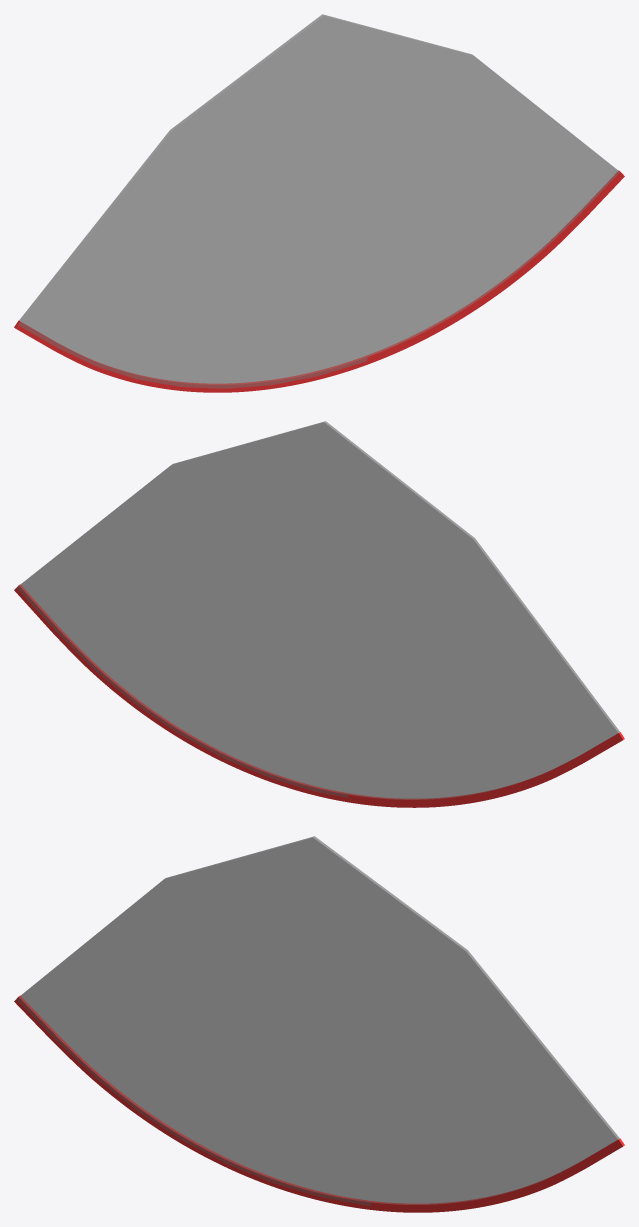
3 renders of one model, top to bottom at view 1: azimuth 30°, elevation 25°; view 2: azimuth 150°, elevation 25°; view 3: azimuth 330°, elevation 25°, orthographic.
Parts seen in each view (by area): view 1: Circle004, 图形004; view 2: Circle004, 图形004; view 3: Circle004, 图形004.
Boxes of the visible parts, x1,y1,x2,y2 form: Circle004: [18, 14, 619, 388]; 图形004: [14, 170, 624, 392]; Circle004: [16, 421, 619, 799]; 图形004: [14, 584, 624, 807]; Circle004: [16, 836, 619, 1205]; 图形004: [14, 995, 624, 1212].
Size of the model in its own units: 32.92 by 19.07 by 0.8383.
Materials: 2 (1 with a texture image).
